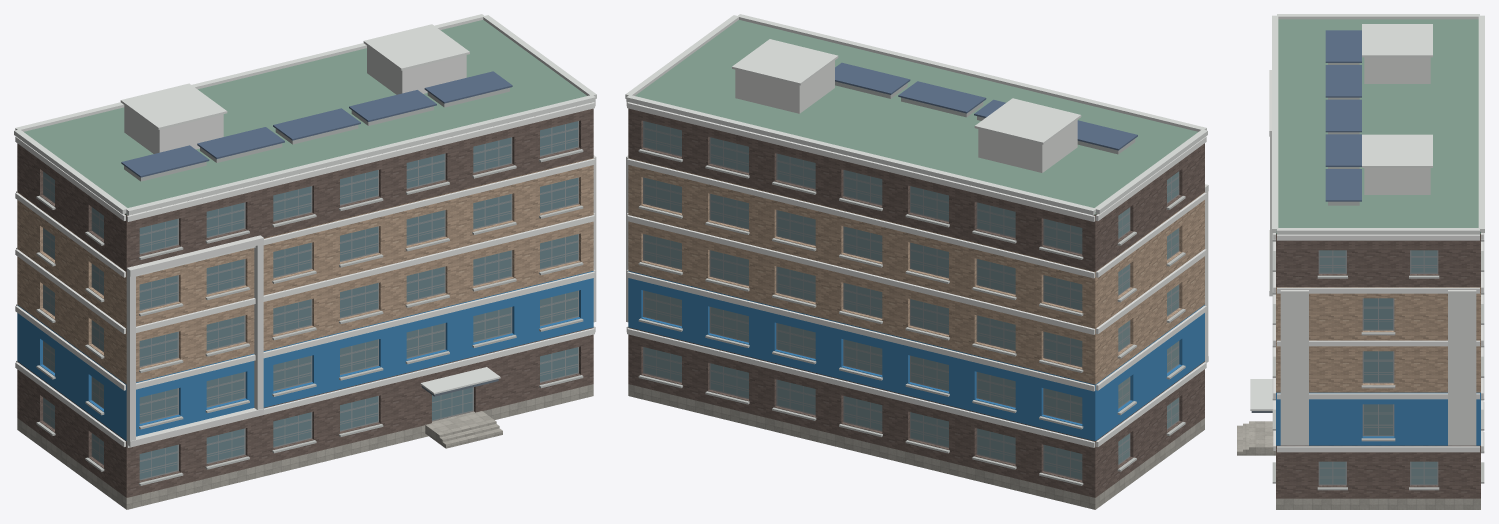
3 views of the same model, side by side, from view 1: azimuth 30°, elevation 25°; view 2: azimuth 150°, elevation 25°; view 3: azimuth 270°, elevation 25° (orthographic). The views are drawn at different scales.
Parts seen in each view (by area): view 1: main-east__darkbrick, main-east__buffbrick, main-east__glass, main-east__roof, main-east__blue, main-east__band, main-east__cap, main-east__frame, main-east__panel, main-east__solar, main-east__sill, main-east__stone (+4 smaller); view 2: main-east__buffbrick, main-east__darkbrick, main-east__sideglass, main-east__roof, main-east__blue, main-east__band, main-east__cap, main-east__frame, main-east__sill, main-east__stone, main-east__panel, main-east__solar (+1 smaller); view 3: main-east__roof, main-east__darkbrick, main-east__panel, main-east__buffbrick, main-east__cap, main-east__band, main-east__blue, main-east__solar, main-east__glass, main-east__stone, main-east__sideglass, main-east__sill (+4 smaller).
Part boxes in pixels (bbox=[...]): main-east__darkbrick: bbox=[17, 108, 593, 497]; main-east__buffbrick: bbox=[17, 158, 593, 384]; main-east__glass: bbox=[139, 121, 577, 479]; main-east__roof: bbox=[24, 20, 586, 214]; main-east__blue: bbox=[17, 271, 593, 440]; main-east__band: bbox=[15, 101, 595, 447]; main-east__cap: bbox=[14, 14, 596, 394]; main-east__frame: bbox=[43, 121, 578, 480]; main-east__panel: bbox=[124, 46, 596, 446]; main-east__solar: bbox=[121, 71, 512, 177]; main-east__sill: bbox=[36, 149, 583, 485]; main-east__stone: bbox=[17, 384, 593, 509]; main-east__buffbrick: bbox=[628, 158, 1204, 384]; main-east__darkbrick: bbox=[628, 108, 1204, 497]; main-east__sideglass: bbox=[644, 121, 1178, 479]; main-east__roof: bbox=[635, 20, 1197, 214]; main-east__blue: bbox=[628, 271, 1204, 440]; main-east__band: bbox=[626, 101, 1206, 447]; main-east__cap: bbox=[625, 14, 1207, 215]; main-east__frame: bbox=[643, 121, 1179, 480]; main-east__sill: bbox=[638, 149, 1185, 485]; main-east__stone: bbox=[628, 384, 1204, 509]; main-east__panel: bbox=[626, 60, 1208, 362]; main-east__solar: bbox=[835, 62, 1137, 150]; main-east__roof: bbox=[1276, 19, 1480, 233]; main-east__darkbrick: bbox=[1276, 234, 1480, 498]; main-east__panel: bbox=[1269, 57, 1476, 445]; main-east__buffbrick: bbox=[1276, 287, 1480, 392]; main-east__cap: bbox=[1250, 14, 1484, 410]; main-east__band: bbox=[1273, 233, 1483, 452]; main-east__blue: bbox=[1276, 392, 1480, 445]; main-east__solar: bbox=[1325, 30, 1361, 201]; main-east__glass: bbox=[1364, 298, 1392, 435]; main-east__stone: bbox=[1276, 498, 1480, 509]; main-east__sideglass: bbox=[1319, 250, 1437, 484]; main-east__sill: bbox=[1272, 233, 1484, 490].
Size of the model in its own units: 32.6 by 21.58 by 15.72.
16 materials, 3 textured.
